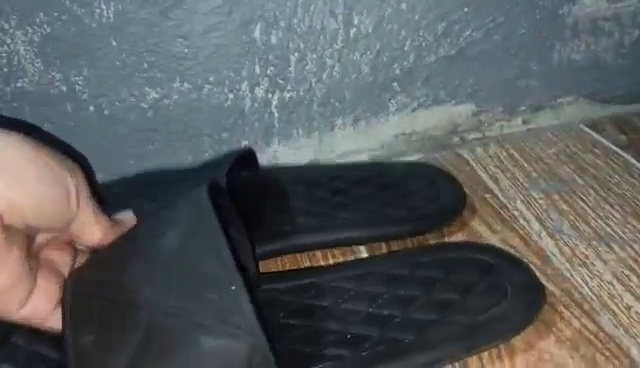slipper: (1, 185, 543, 368), (90, 148, 465, 260)
